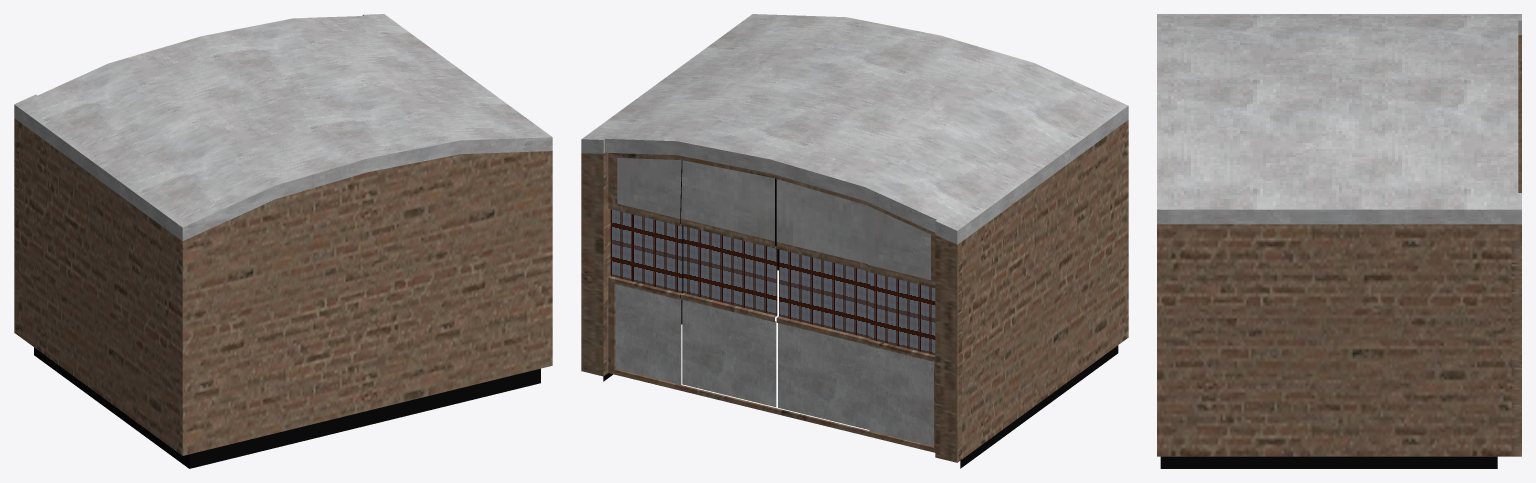
Rendered from Meteorite.fbx.
3 views of the same model, side by side, from view 1: azimuth 30°, elevation 25°; view 2: azimuth 150°, elevation 25°; view 3: azimuth 270°, elevation 25° (orthographic). The views are drawn at different scales.
Parts seen in each view (by area): view 1: WareHouse; view 2: WareHouse, WareHouse_Door2, WareHouse_Door1; view 3: WareHouse.
Part boxes in pixels (left/top/right/bottom): WareHouse: left=14, top=14, right=552, bottom=468; WareHouse: left=581, top=14, right=1128, bottom=468; WareHouse_Door2: left=681, top=160, right=777, bottom=407; WareHouse_Door1: left=776, top=179, right=870, bottom=429; WareHouse: left=1157, top=14, right=1521, bottom=468.
Size of the model in its own units: 2542 by 1763 by 2004.
